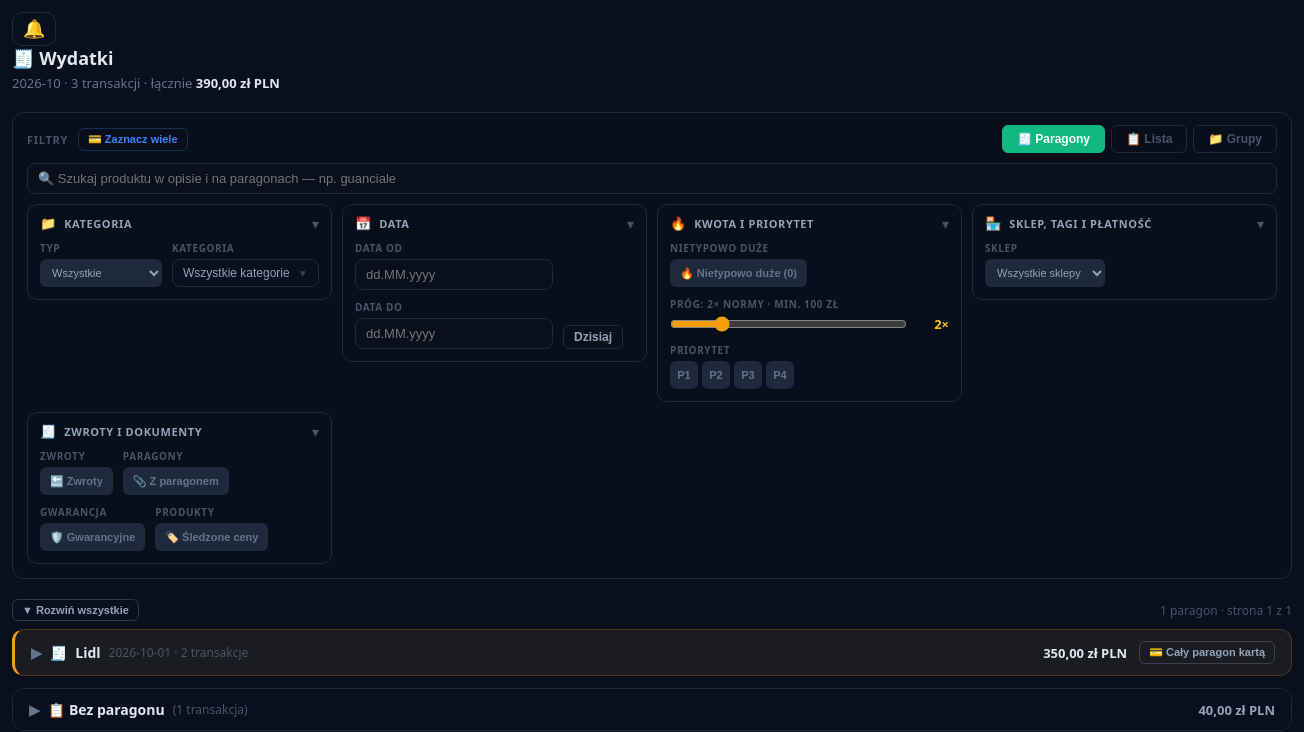
Test case: Wydatki — bulk card marking › marks a whole receipt from its card, and takes the mark off again
Click the button "💳 Cały paragon kartą".
click(1207, 652)  # box [1139,641,1275,664]
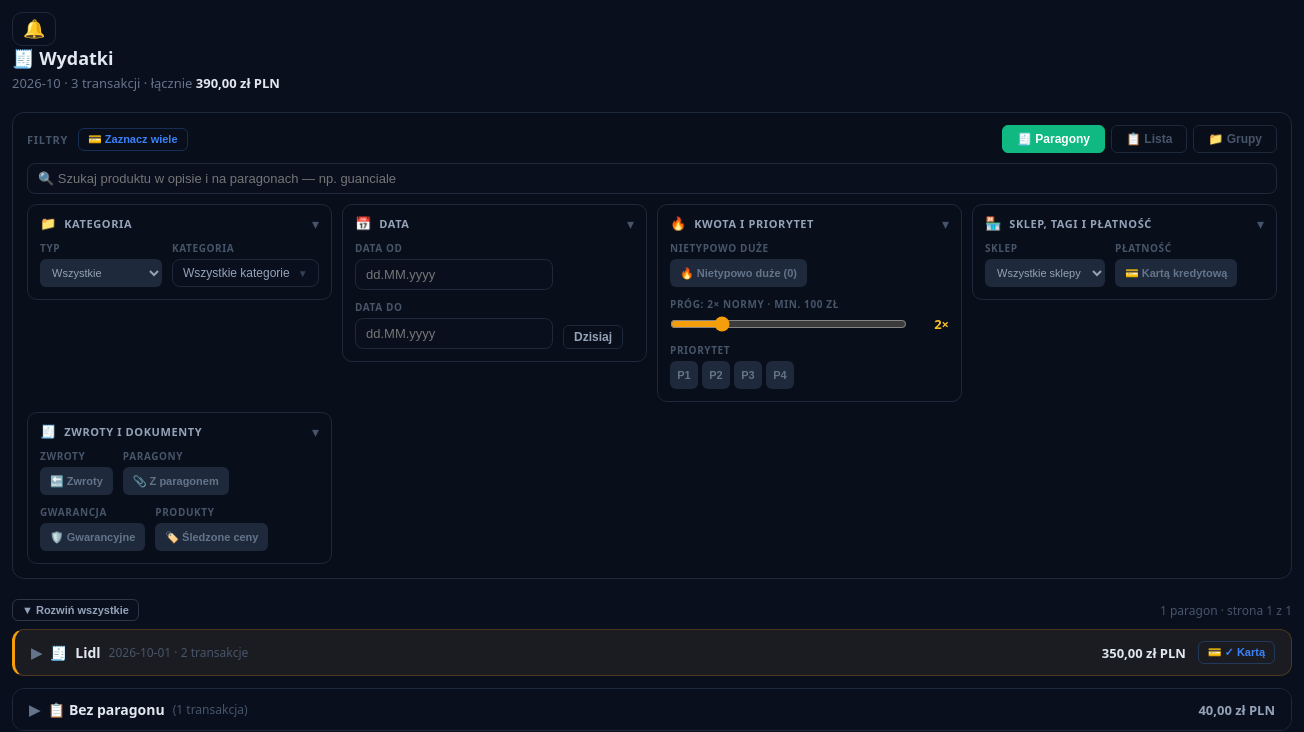
// Now marked: the same spot offers to undo it.
Click the button "💳 ✓ Kartą".
click(1236, 652)  # box [1198,641,1275,664]
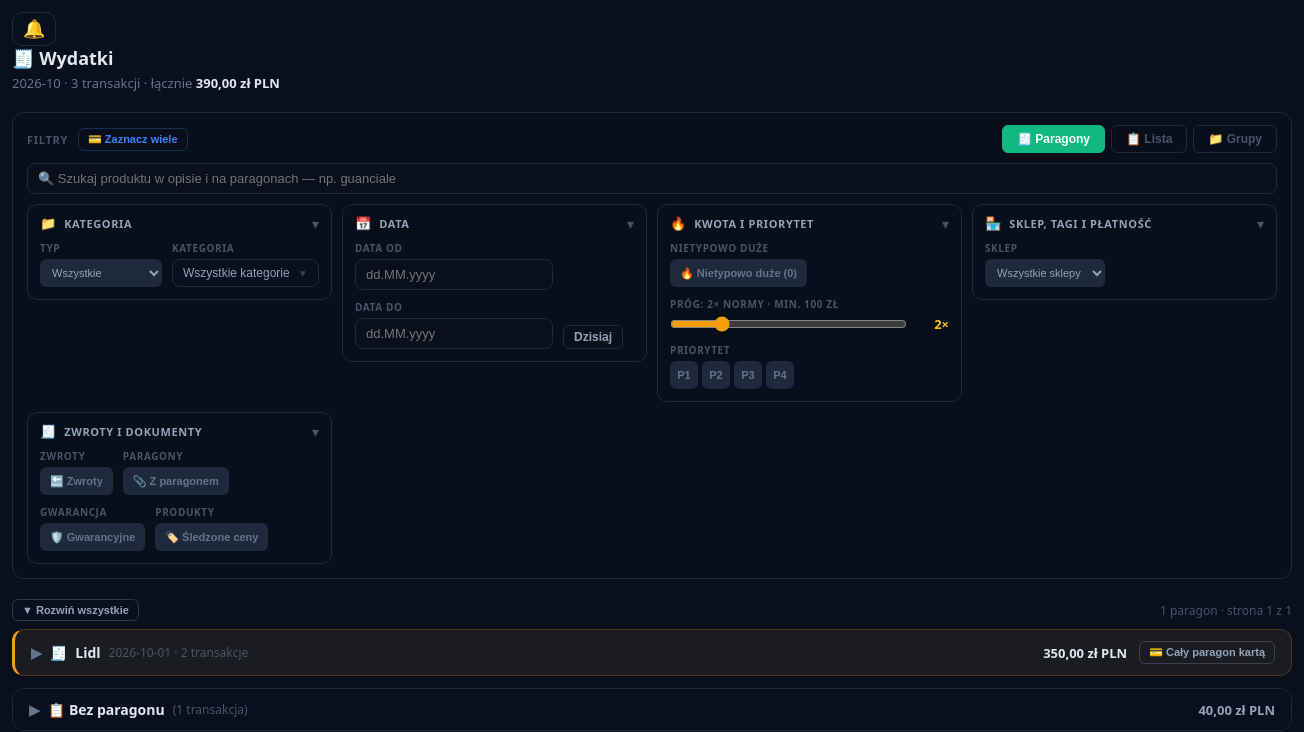
Expected: the button "💳 Cały paragon kartą" is shown, [1139,641,1275,664]
